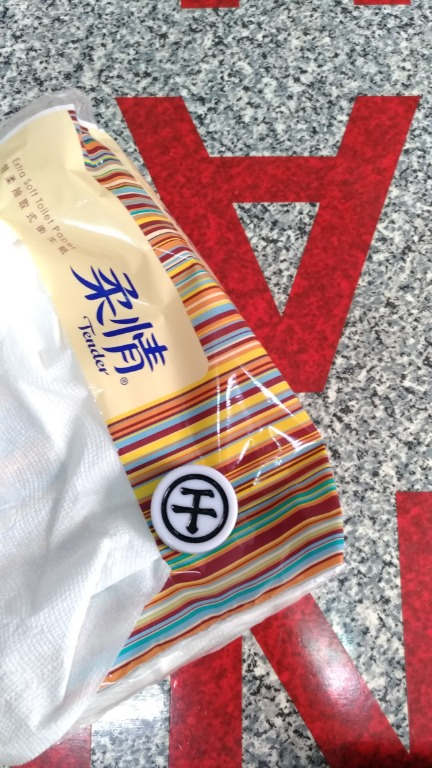b-advisor: (133, 447, 259, 584)
